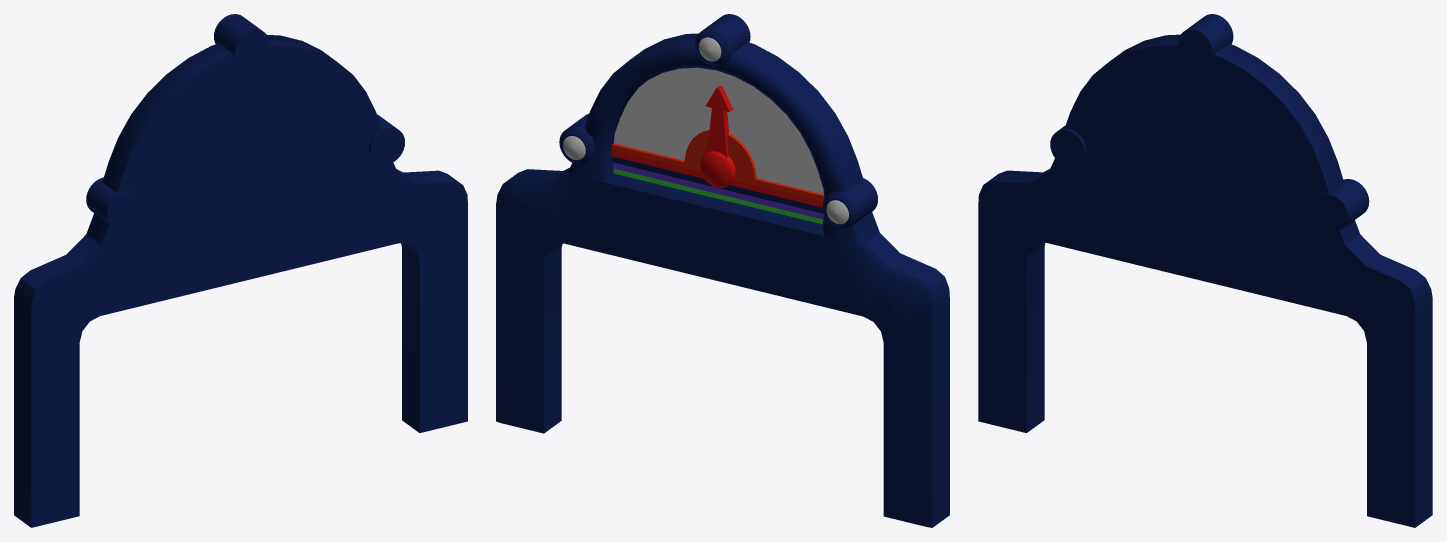
The model's file is Escenario_Risometro.fbx.
3 renders of one model, left to right at view 1: azimuth 30°, elevation 25°; view 2: azimuth 150°, elevation 25°; view 3: azimuth 330°, elevation 25°, orthographic.
Parts seen in each view (by area): view 1: Risometro_Base; view 2: Risometro_Base, Risometro_Aguja; view 3: Risometro_Base.
Part boxes in pixels (x1,y1,x2,y2): Risometro_Base: (14, 14, 467, 527); Risometro_Base: (496, 14, 949, 527); Risometro_Aguja: (700, 85, 735, 187); Risometro_Base: (978, 14, 1432, 527).
Size of the model in its own units: 430 by 420 by 42.58.
